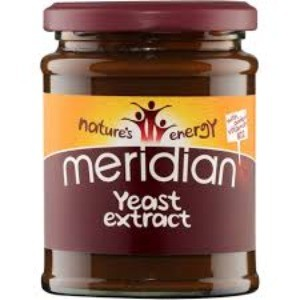yeast spread_brain food: (38, 71, 257, 247)
